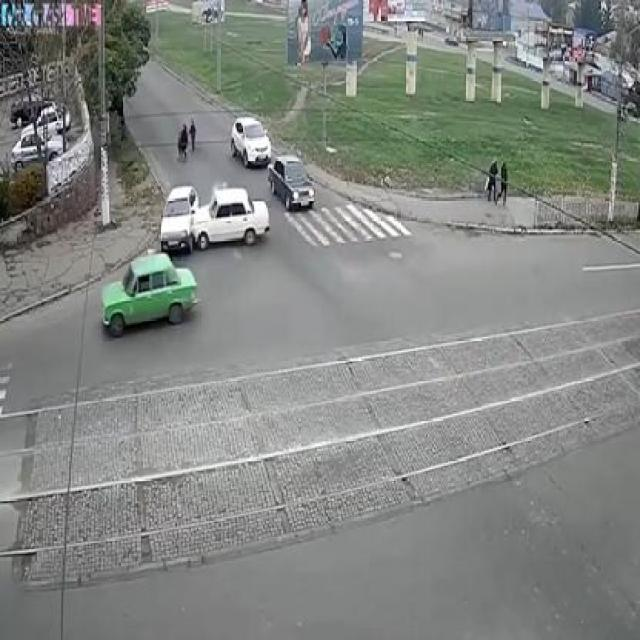accident: (156, 164, 266, 274)
